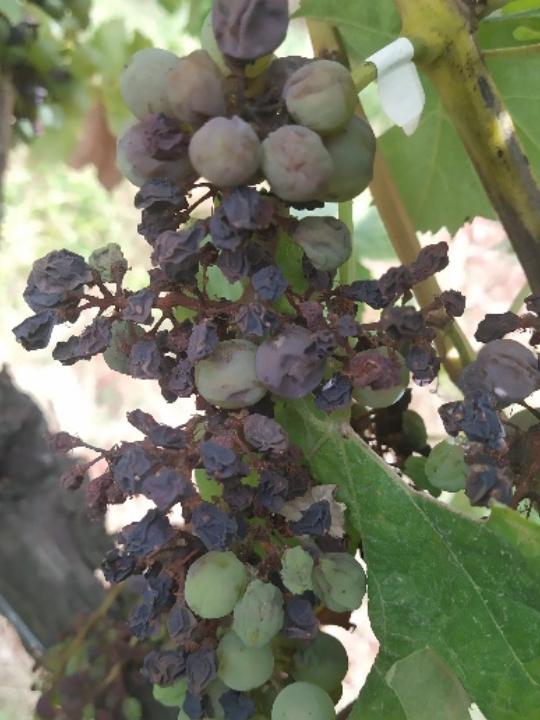grape: (6, 0, 470, 720)
